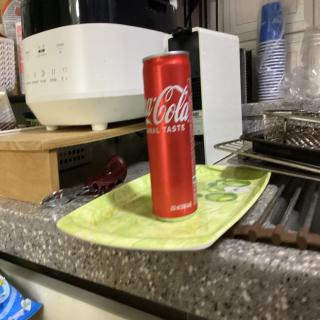cocacola: (140, 48, 200, 223)
